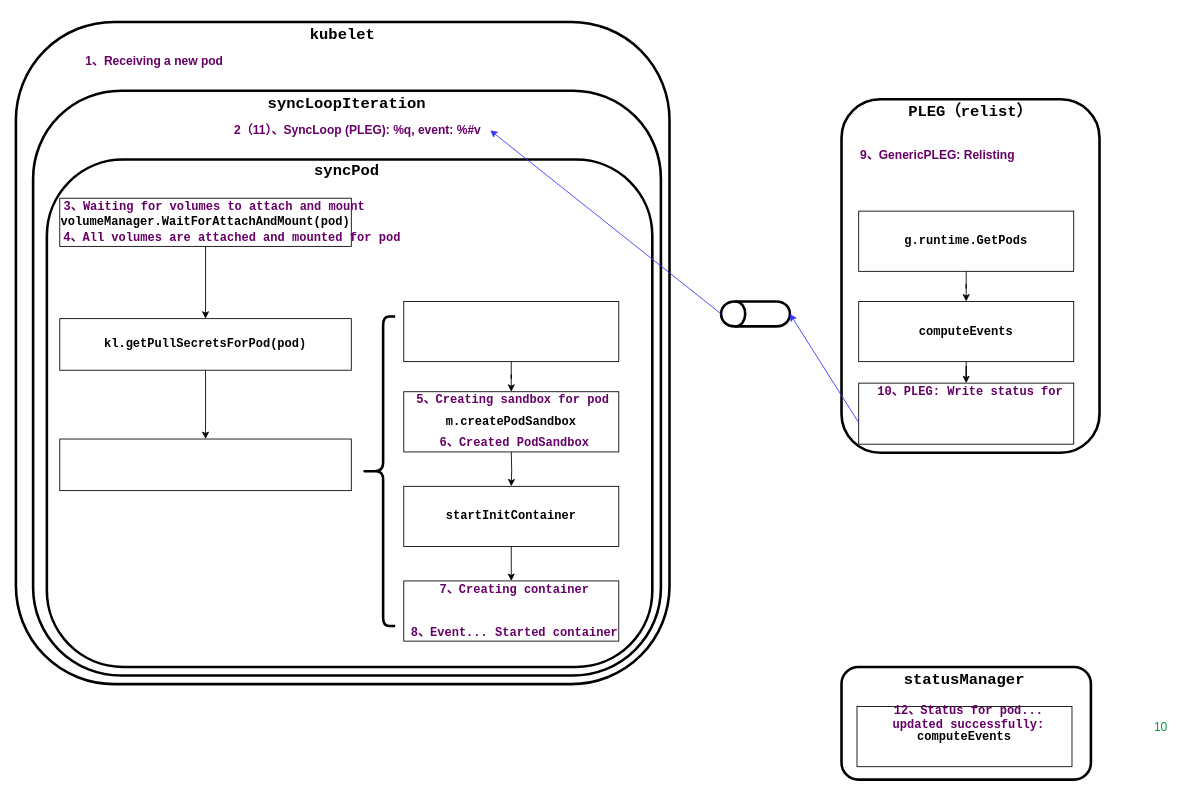
Image size: 1183x796. Some labels were removed from this diagram. Each missing label, with the box of its shape:
g . updateCache: (858, 382, 1074, 444)
kl . containerRuntime . SyncPod: (59, 438, 351, 491)
m . computePodActions: (403, 301, 619, 362)
startContainer: (403, 580, 619, 641)
